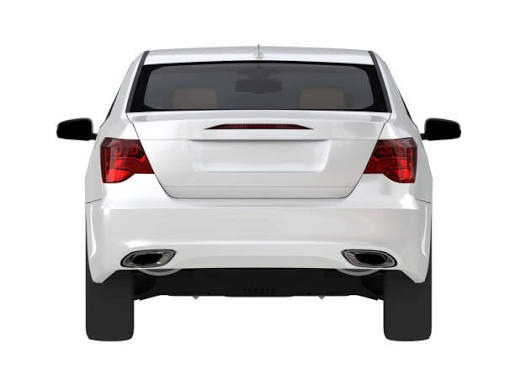car: (44, 44, 459, 339)
